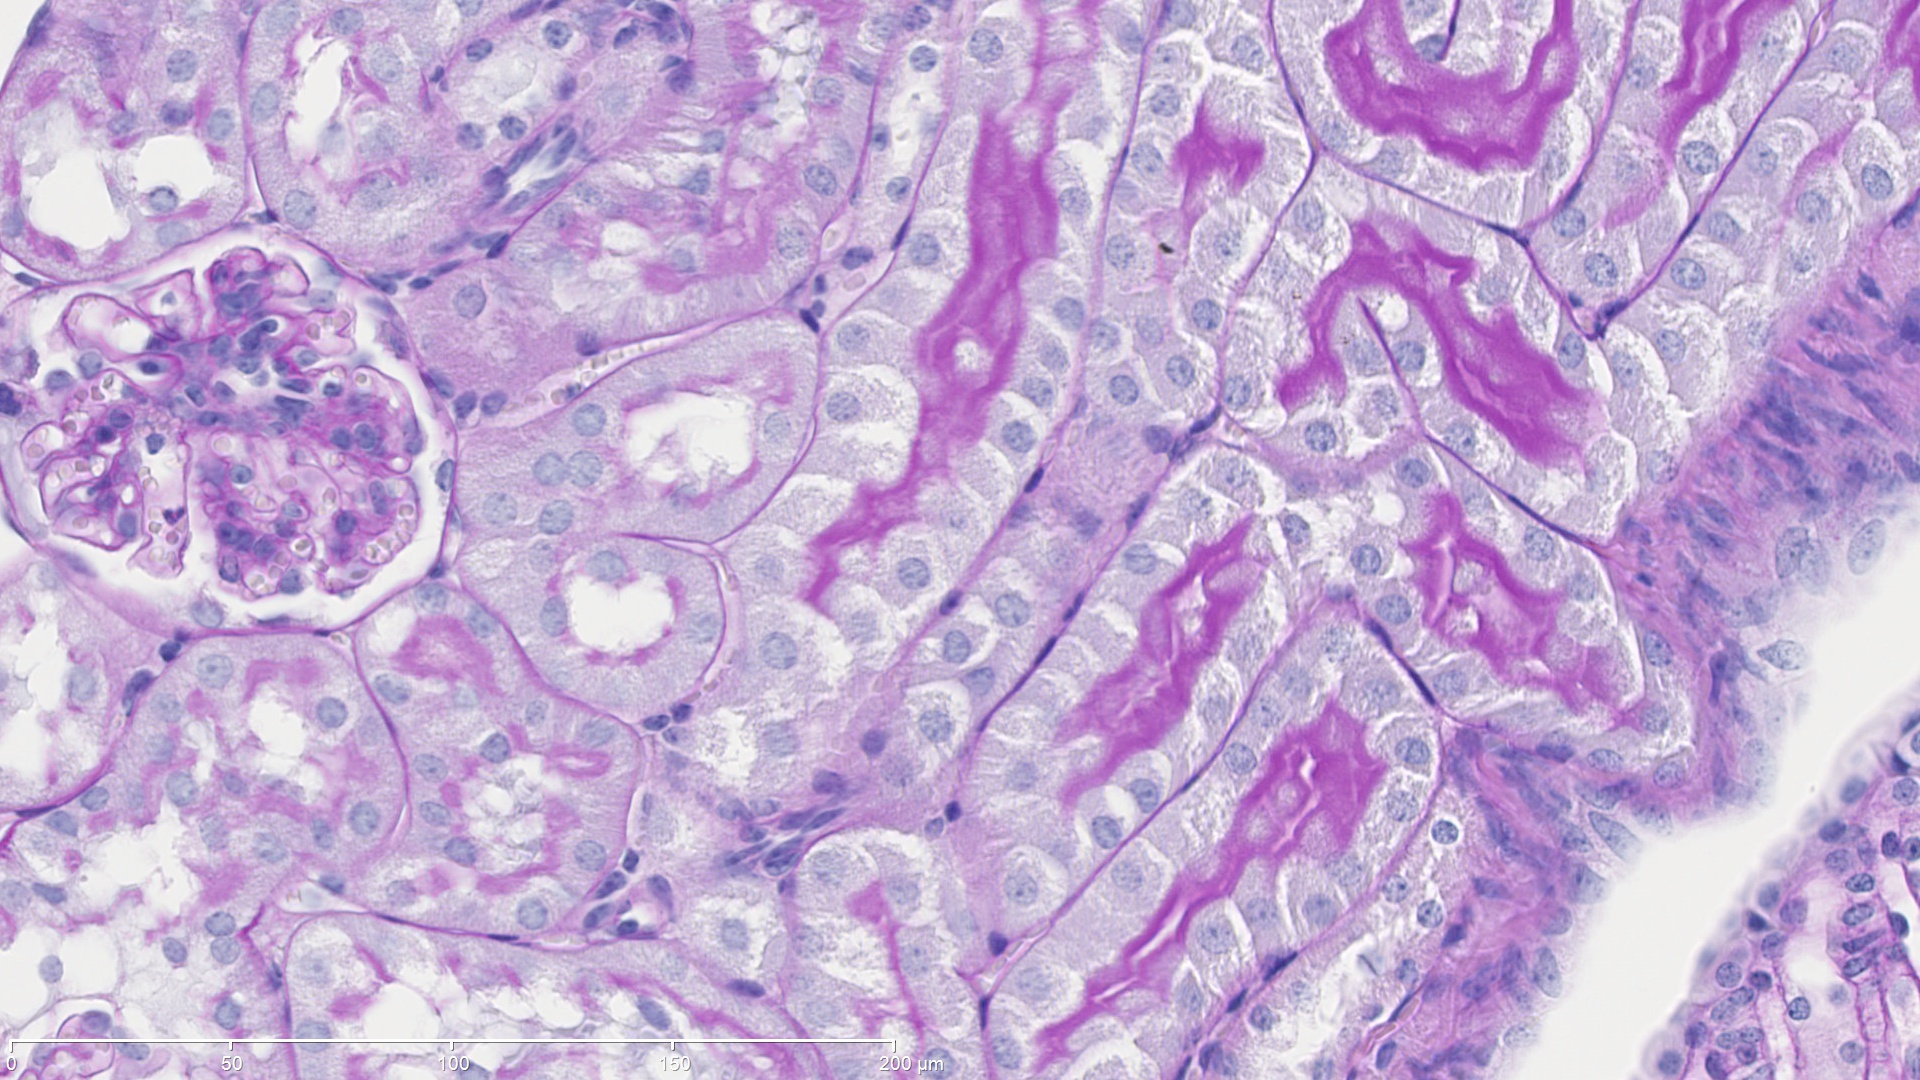Glomeruli: (7, 224, 444, 615)
